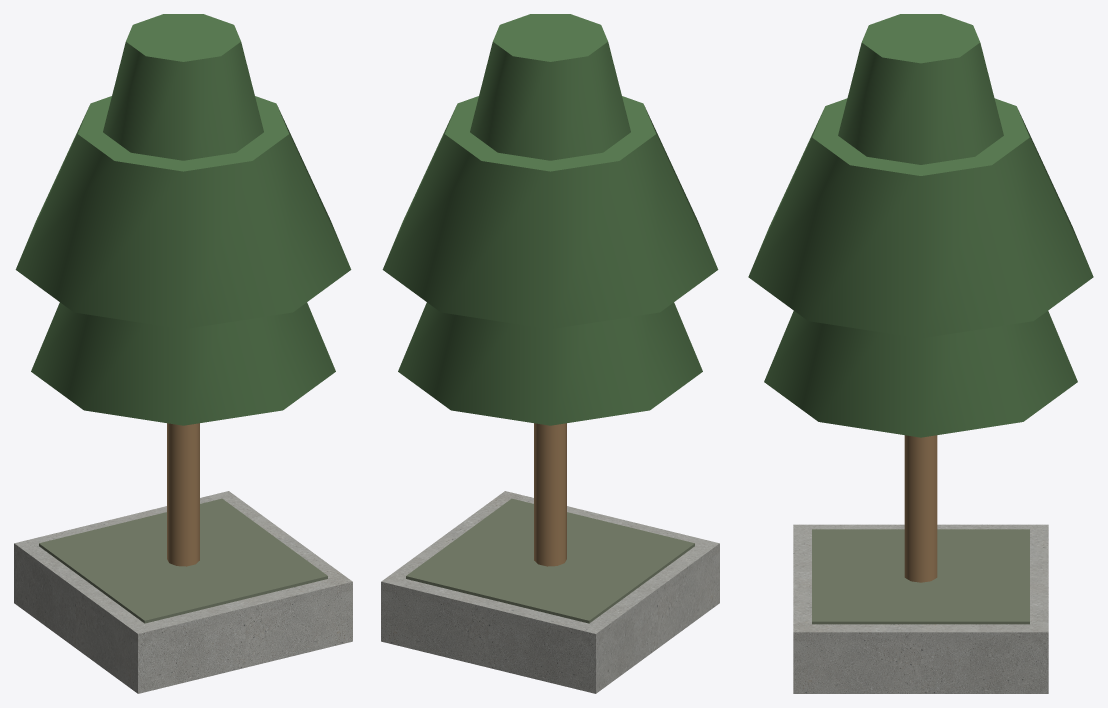
Rendered from planter_tree.glb.
The picture shows the model from 3 angles, left to right: view 1: azimuth 30°, elevation 25°; view 2: azimuth 150°, elevation 25°; view 3: azimuth 270°, elevation 25°; orthographic projection. The views are drawn at different scales.
Visible parts, largest first — view 1: planter_tree; view 2: planter_tree; view 3: planter_tree.
Part boxes in pixels (x1,y1,x2,y2): planter_tree: [14, 14, 352, 693]; planter_tree: [381, 14, 719, 693]; planter_tree: [748, 14, 1093, 693].
Bounding box in the file's own units: 3.2 × 6.25 × 3.25.
